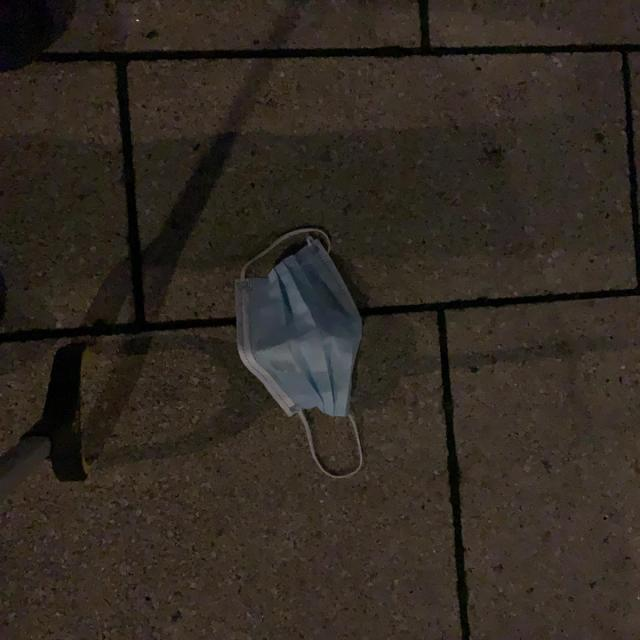Mask: (230, 224, 366, 482)
